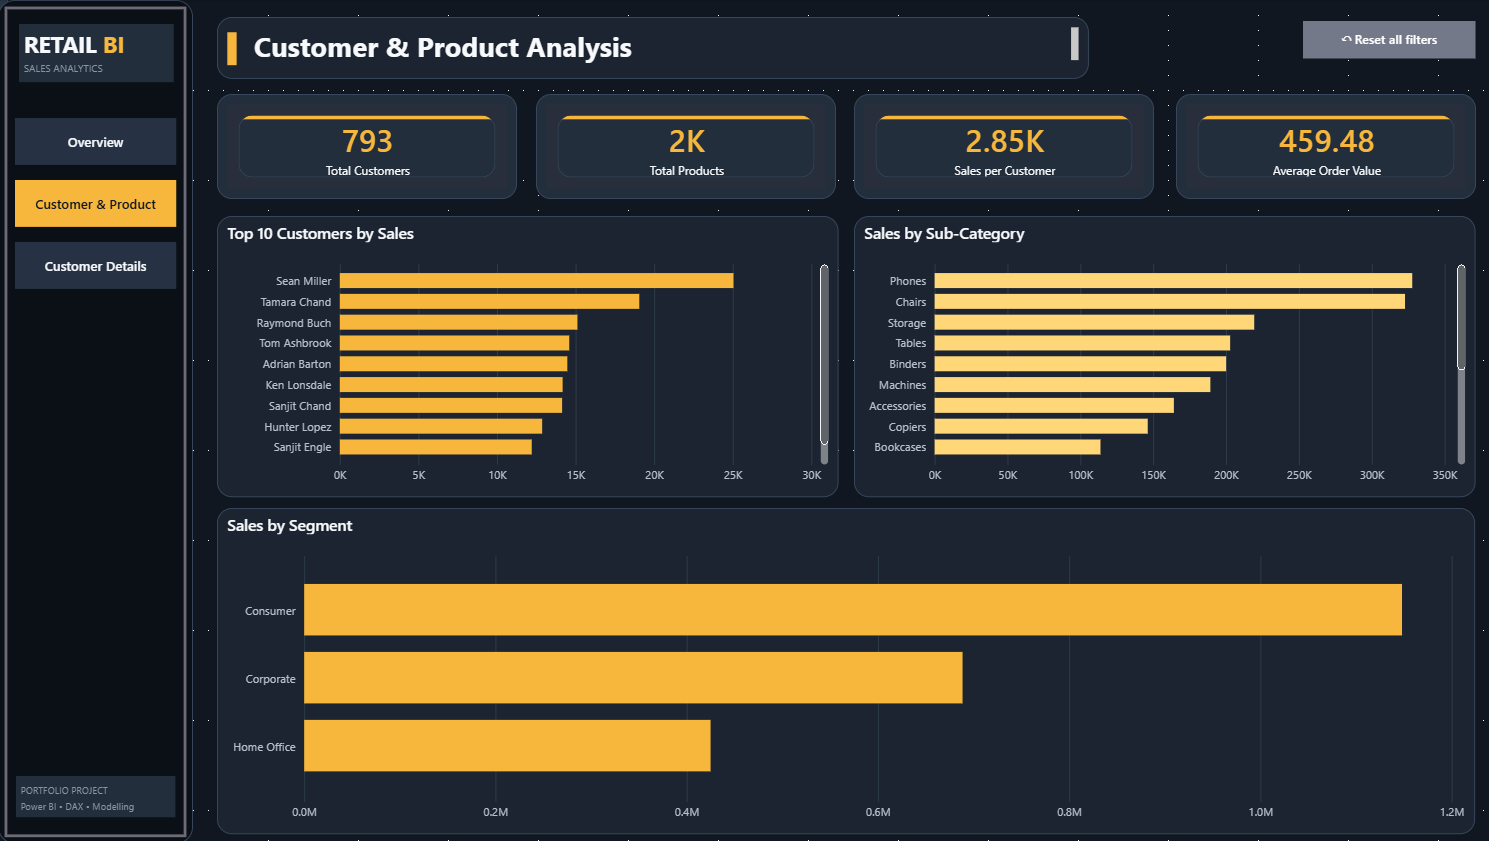

This screenshot's page, from the dashboard's own definition file:
{"tool":"powerbi","page":{"name":"Customer & Product Analysis","canvas":[1600,900],"ordinal":1},"visuals":[{"type":"textbox","box":[234,18,930,66],"z":0},{"type":"textbox","box":[0,0,0.1,0.1],"z":1000},{"type":"textbox","box":[0,0,0.1,0.1],"z":2000},{"type":"textbox","box":[0,0,0.1,0.1],"z":3000},{"type":"textbox","box":[0,0,0.1,0.1],"z":4000},{"type":"actionButton","box":[0,0,208,900],"z":5000},{"type":"textbox","box":[22,26,165,62],"z":6000},{"type":"textbox","box":[19,828,170,44],"z":7000},{"type":"actionButton","box":[18,126,172,50],"z":9000},{"type":"actionButton","box":[18,192,172,50],"z":10000},{"type":"actionButton","box":[18,258,172,50],"z":11000},{"type":"actionButton","box":[1392,22,184,40],"z":12000},{"type":"cardVisual","fields":{"Data":["Measures (2).Total Customers"]},"box":[234,100,320,112],"z":14000},{"type":"cardVisual","fields":{"Data":["Measures (2).Total Products"]},"box":[573.5,100,320,112],"z":15000},{"type":"cardVisual","fields":{"Data":["Measures (2).Sales per Customer"]},"box":[913,100,320,112],"z":16000},{"type":"cardVisual","fields":{"Data":["Measures (2).Average Order Value"]},"box":[1256,100,320,112],"z":17000},{"type":"barChart","title":"Top 10 Customers by Sales","fields":{"Y":["Measures (2).Total Sales"],"Category":["Sales Data.Customer Name"]},"box":[234,230,663,300],"z":18000},{"type":"barChart","title":"Sales by Sub-Category","fields":{"Category":["Sales Data.Sub-Category"],"Y":["Measures (2).Total Sales"]},"box":[913,230,663,300],"z":19000},{"type":"barChart","title":"Sales by Segment","fields":{"Category":["Sales Data.Segment"],"Y":["Measures (2).Total Sales"]},"box":[234,542,1342,348],"z":20000}]}

Visuals, with their boxes on the page's 1600x900 design canvas (x1, y1, x2, y2). These are canvas units, not pixel positions in the 1489x841 screenshot, which may show the page scaled, cropped or inside an application window:
textbox: left=234, top=18, right=1164, bottom=84
textbox: left=0, top=0, right=0, bottom=0
textbox: left=0, top=0, right=0, bottom=0
textbox: left=0, top=0, right=0, bottom=0
textbox: left=0, top=0, right=0, bottom=0
actionButton: left=0, top=0, right=208, bottom=900
textbox: left=22, top=26, right=187, bottom=88
textbox: left=19, top=828, right=189, bottom=872
actionButton: left=18, top=126, right=190, bottom=176
actionButton: left=18, top=192, right=190, bottom=242
actionButton: left=18, top=258, right=190, bottom=308
actionButton: left=1392, top=22, right=1576, bottom=62
cardVisual - Measures (2).Total Customers: left=234, top=100, right=554, bottom=212
cardVisual - Measures (2).Total Products: left=574, top=100, right=894, bottom=212
cardVisual - Measures (2).Sales per Customer: left=913, top=100, right=1233, bottom=212
cardVisual - Measures (2).Average Order Value: left=1256, top=100, right=1576, bottom=212
"Top 10 Customers by Sales" barChart: left=234, top=230, right=897, bottom=530
"Sales by Sub-Category" barChart: left=913, top=230, right=1576, bottom=530
"Sales by Segment" barChart: left=234, top=542, right=1576, bottom=890
